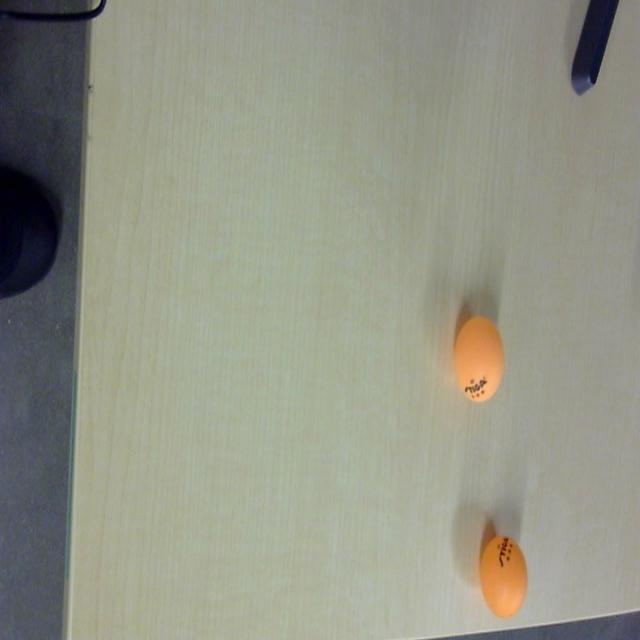ball: (454, 314, 506, 405), (480, 536, 528, 616)
